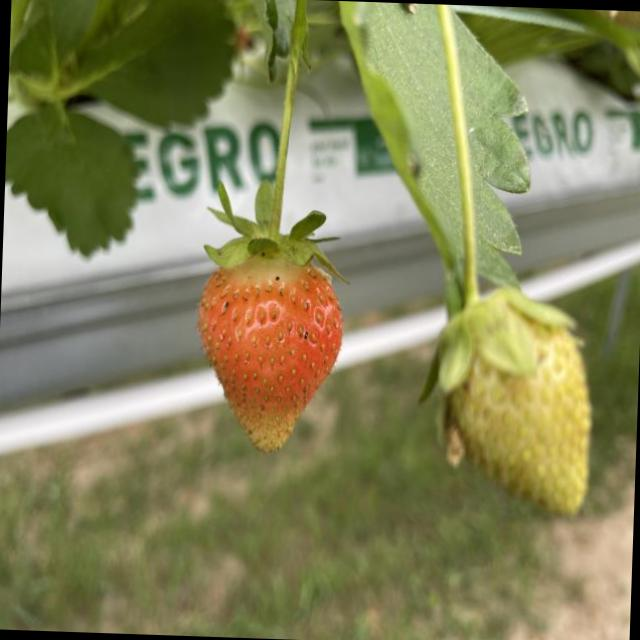stem: (437, 4, 571, 392), (205, 0, 341, 277)
strawberryNR: (450, 322, 591, 513)
strawberryR: (198, 257, 342, 451)
